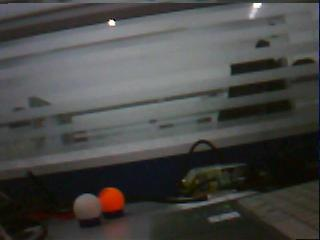oball: (100, 187, 123, 210)
